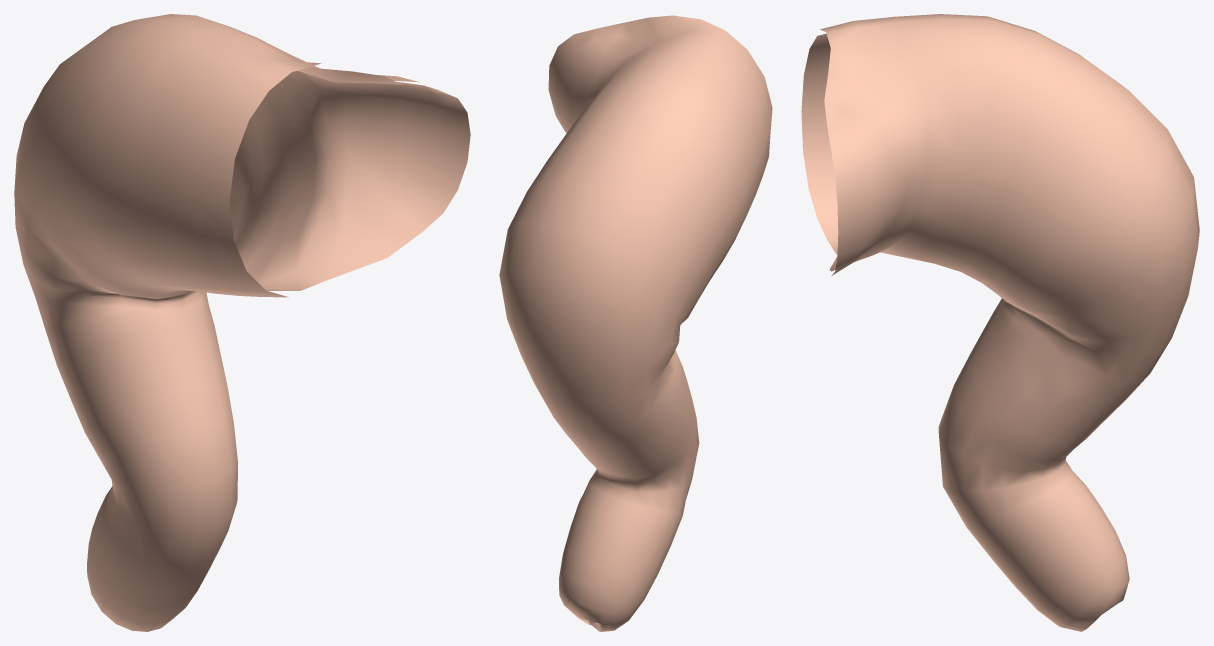
File: frau2-494.glb
3 renders of one model, left to right at view 1: azimuth 30°, elevation 25°; view 2: azimuth 150°, elevation 25°; view 3: azimuth 270°, elevation 25°, orthographic. The views are drawn at different scales.
Parts seen in each view (by area): view 1: VH_F_rectum; view 2: VH_F_rectum; view 3: VH_F_rectum.
Part boxes in pixels (x1,y1,x2,y2): VH_F_rectum: [14, 14, 470, 631]; VH_F_rectum: [499, 15, 772, 631]; VH_F_rectum: [801, 14, 1199, 631].
Size of the model in its own units: 0.0529 by 0.1058 by 0.0634.
